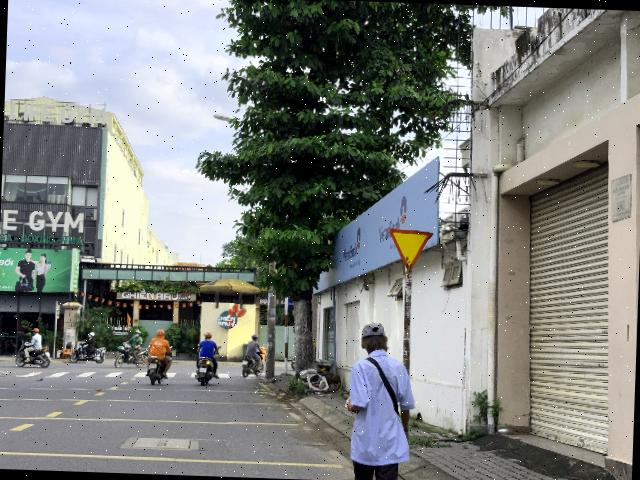giao-nhau-voi-duong-uu-tien: (386, 228, 434, 272)
